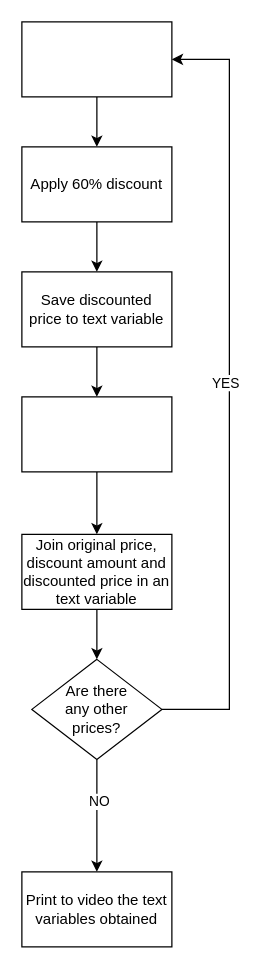
Some shapes in this 261 by 969 pixel diagram are drawn without their labels. Each missing label, with the centre of its shape:
"Save discount amount to a text variable" belongs at [96,434].
"Take original price" belongs at [96,59].
